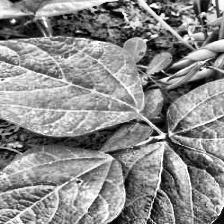ALS: (0, 30, 145, 138), (0, 142, 130, 224), (117, 136, 224, 224)
